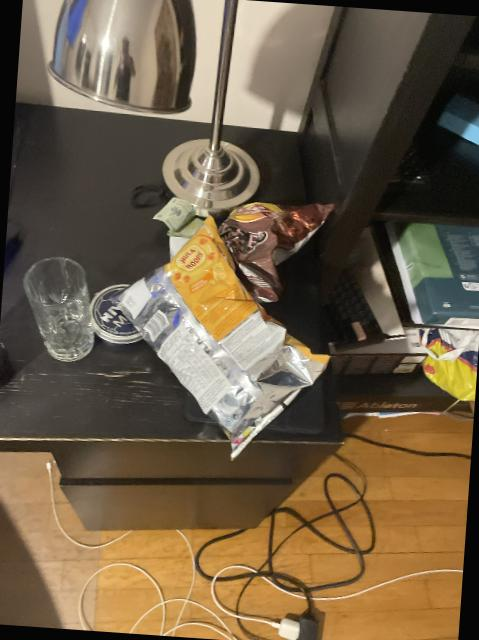Chio Hula Hoops Cheese 70g: (112, 217, 334, 451)
Lays Beef Grilled Ribs 125g: (214, 198, 330, 308)
